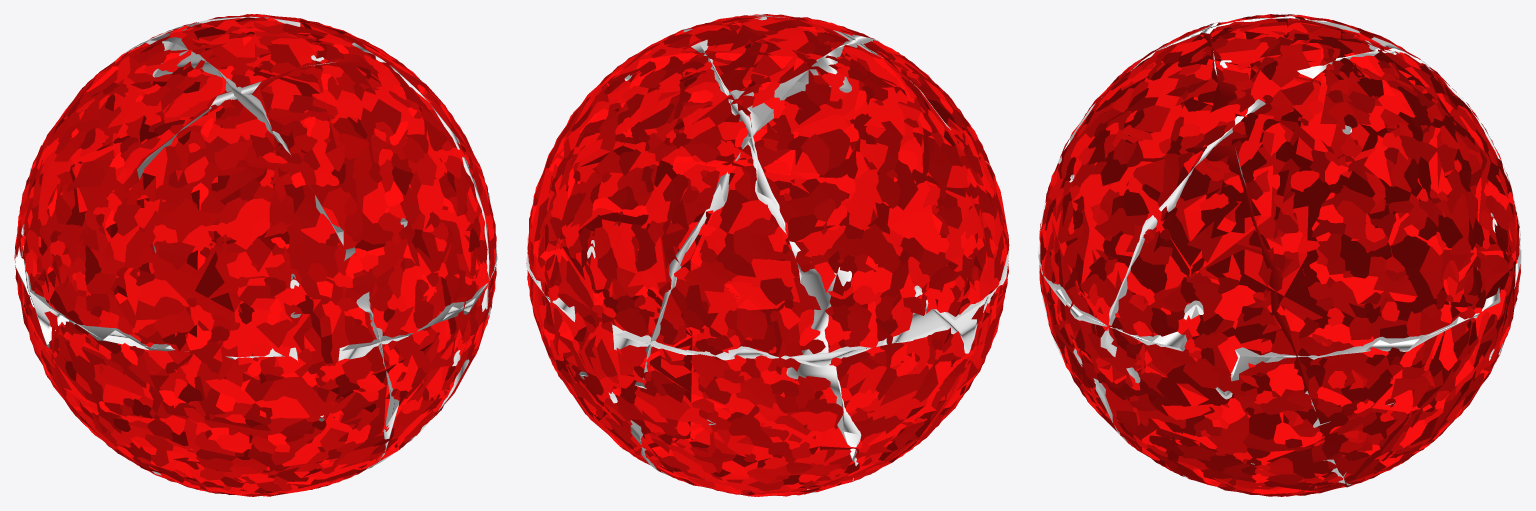
File: diamante.glb
The picture shows the model from 3 angles, left to right: view 1: azimuth 30°, elevation 25°; view 2: azimuth 150°, elevation 25°; view 3: azimuth 270°, elevation 25°; orthographic projection.
Size of the model in its own units: 2 by 2 by 2.
